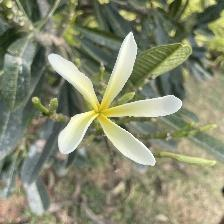champaka: (51, 30, 189, 171)
